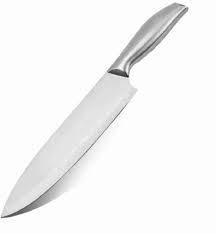Knife: (0, 1, 188, 218)
